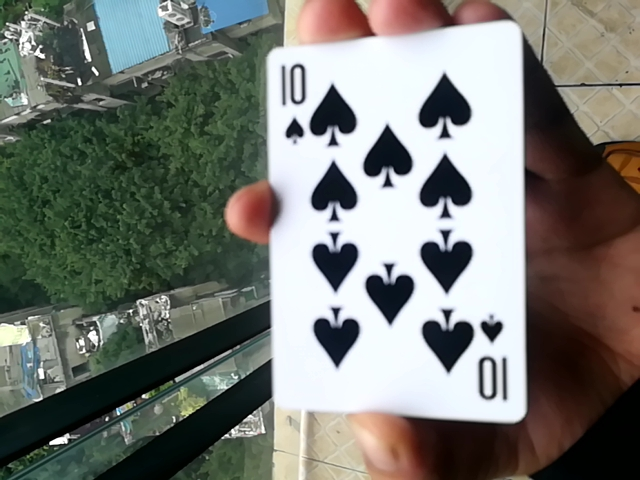ht 10: (256, 24, 525, 424)
